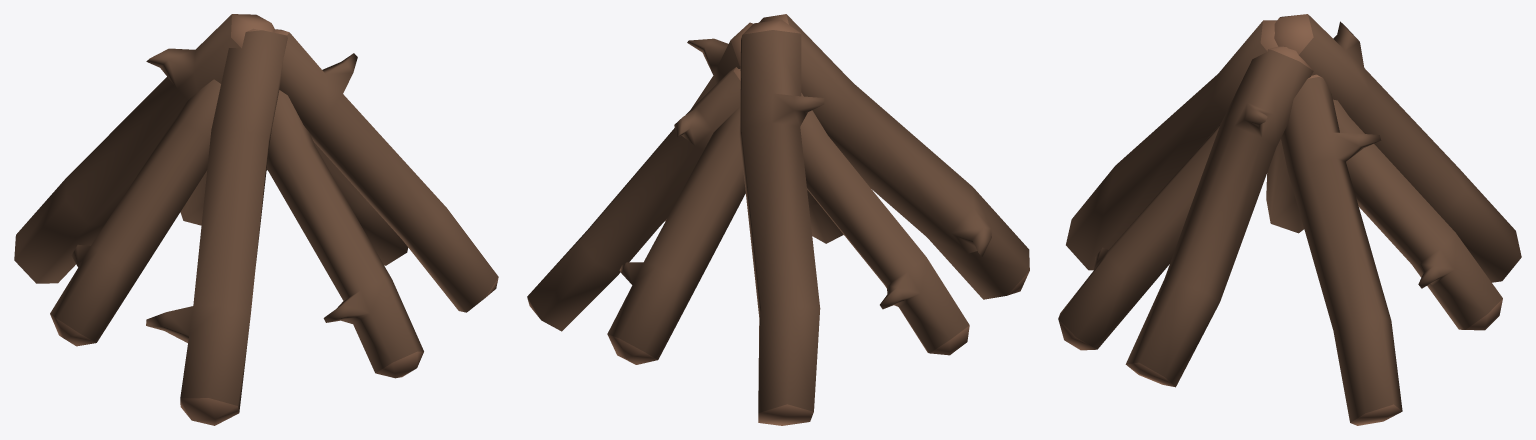
The model's file is fire.fbx.
3 renders of one model, left to right at view 1: azimuth 30°, elevation 25°; view 2: azimuth 150°, elevation 25°; view 3: azimuth 270°, elevation 25°, orthographic. The views are drawn at different scales.
Parts seen in each view (by area): view 1: fire; view 2: fire; view 3: fire.
Part boxes in pixels (x1,y1,x2,y2): fire: [14, 14, 498, 425]; fire: [527, 14, 1029, 425]; fire: [1058, 14, 1521, 425].
Bounding box in the file's own units: 1.04 × 0.7928 × 1.03.
